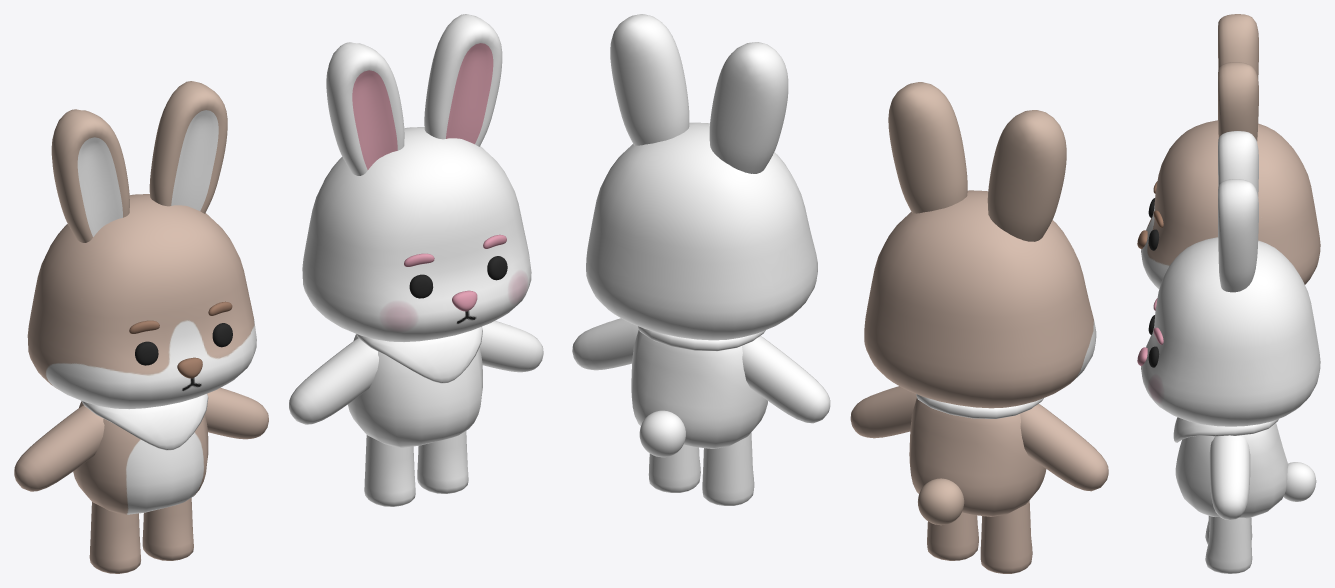
The picture shows the model from 3 angles, left to right: view 1: azimuth 30°, elevation 25°; view 2: azimuth 150°, elevation 25°; view 3: azimuth 270°, elevation 25°; orthographic projection. The views are drawn at different scales.
Visible parts, largest first — view 1: bunny2_head, bunny1_head, bunny2_ears, bunny1_ears, bunny1_body, bunny2_body, bunny1_arms, bunny2_arms, bunny1_legs, bunny2_legs, bunny1_scraf, bunny2_scraf (+2 smaller); view 2: bunny1_head, bunny2_head, bunny1_ears, bunny2_ears, bunny1_body, bunny2_body, bunny2_arms, bunny1_arms, bunny1_legs, bunny2_legs, bunny2_tail, bunny1_tail (+2 smaller); view 3: bunny2_head, bunny1_head, bunny2_ears, bunny2_body, bunny1_ears, bunny2_arms, bunny2_legs, bunny2_scraf, bunny2_tail, bunny1_eyes, bunny2_eyes.
Part boxes in pixels (box(x1,y1,x2,y2)): bunny2_head: box(302, 127, 531, 341); bunny1_head: box(27, 194, 256, 409); bunny2_ears: box(326, 14, 502, 175); bunny1_ears: box(51, 81, 227, 242); bunny1_body: box(73, 401, 208, 514); bunny2_body: box(348, 334, 482, 447); bunny1_arms: box(14, 388, 268, 491); bunny2_arms: box(289, 321, 543, 424); bunny1_legs: box(89, 498, 193, 573); bunny2_legs: box(364, 431, 468, 506); bunny1_scraf: box(81, 394, 208, 450); bunny2_scraf: box(356, 326, 482, 383); bunny1_head: box(864, 190, 1096, 408); bunny2_head: box(586, 122, 817, 340); bunny1_ears: box(888, 82, 1066, 241); bunny2_ears: box(610, 14, 788, 173); bunny1_body: box(909, 398, 1046, 516); bunny2_body: box(631, 330, 767, 448); bunny2_arms: box(572, 318, 830, 423); bunny1_arms: box(850, 386, 1108, 491); bunny1_legs: box(927, 500, 1032, 573); bunny2_legs: box(648, 433, 754, 505); bunny2_tail: box(639, 410, 685, 457); bunny1_tail: box(918, 478, 964, 525); bunny2_head: box(1141, 237, 1320, 426); bunny1_head: box(1141, 120, 1320, 289); bunny2_ears: box(1218, 131, 1258, 292); bunny2_body: box(1175, 423, 1288, 518); bunny1_ears: box(1218, 14, 1258, 140); bunny2_arms: box(1209, 435, 1250, 520); bunny2_legs: box(1205, 516, 1252, 573); bunny2_scraf: box(1173, 417, 1278, 442); bunny2_tail: box(1283, 462, 1316, 501); bunny1_eyes: box(1148, 198, 1159, 250); bunny2_eyes: box(1148, 315, 1159, 367).
Size of the model in its own units: 0.9551 by 0.7965 by 0.3309.
Materials: 11 (2 with a texture image).
